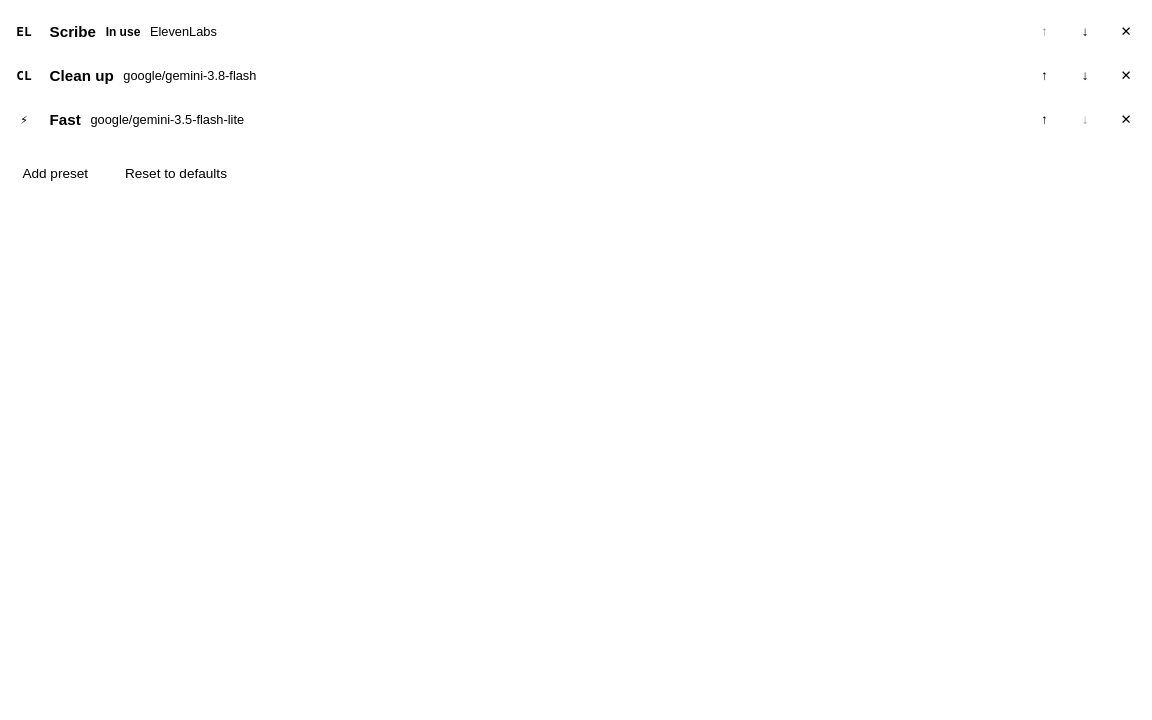
DictationPresets › shows OpenRouter fields only for an OpenRouter preset
Click the button with aria-label "Edit Scribe". click: (73,32)
box: [8,10,1022,54]
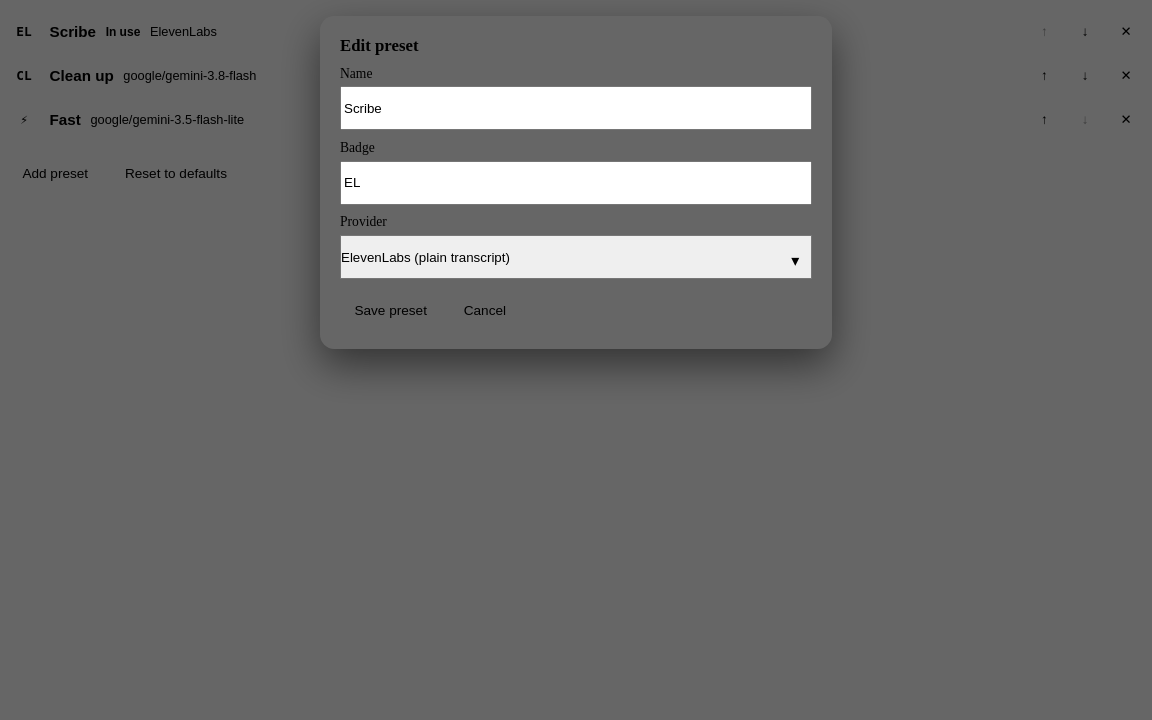
Expected: the field labelled "Model" is not shown
Select "OpenRouter (model + prompt)" in the dropdown labelled "Provider". click: (576,257)
box: [340,235,812,279]
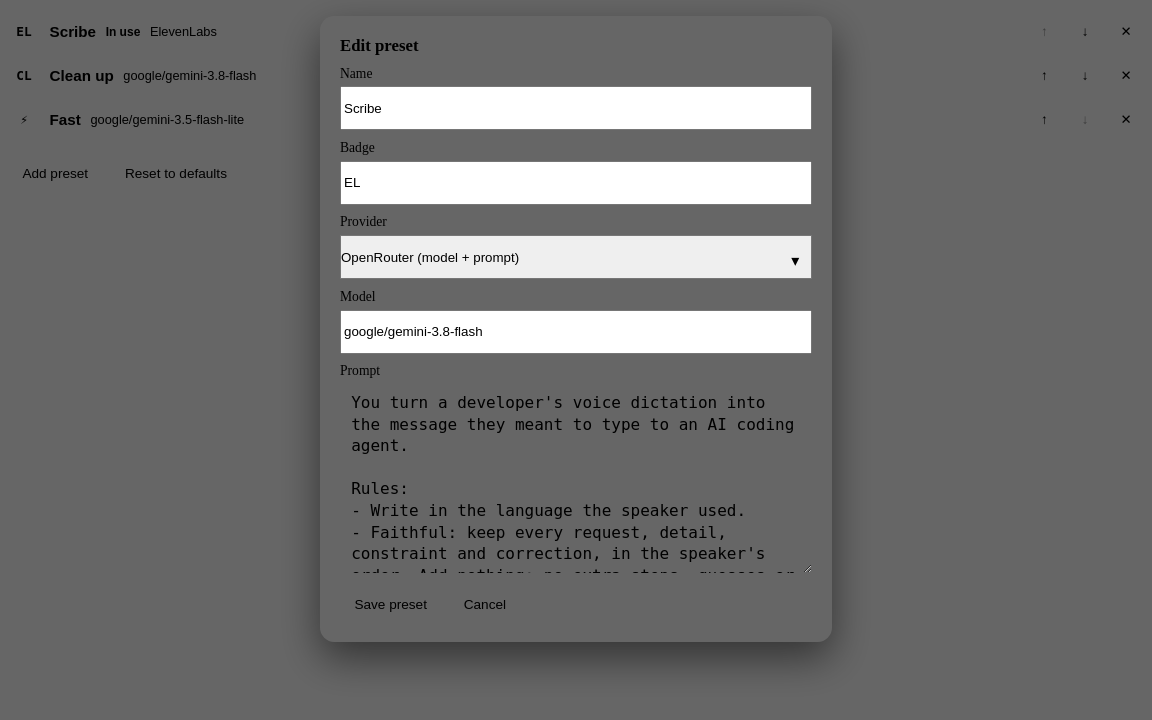
Expected: the field labelled "Model" is shown, [340,310,812,354]
